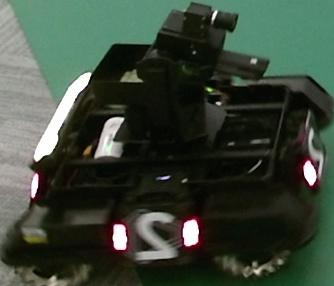armor_2: (112, 219, 200, 251)
light: (33, 71, 91, 162)
